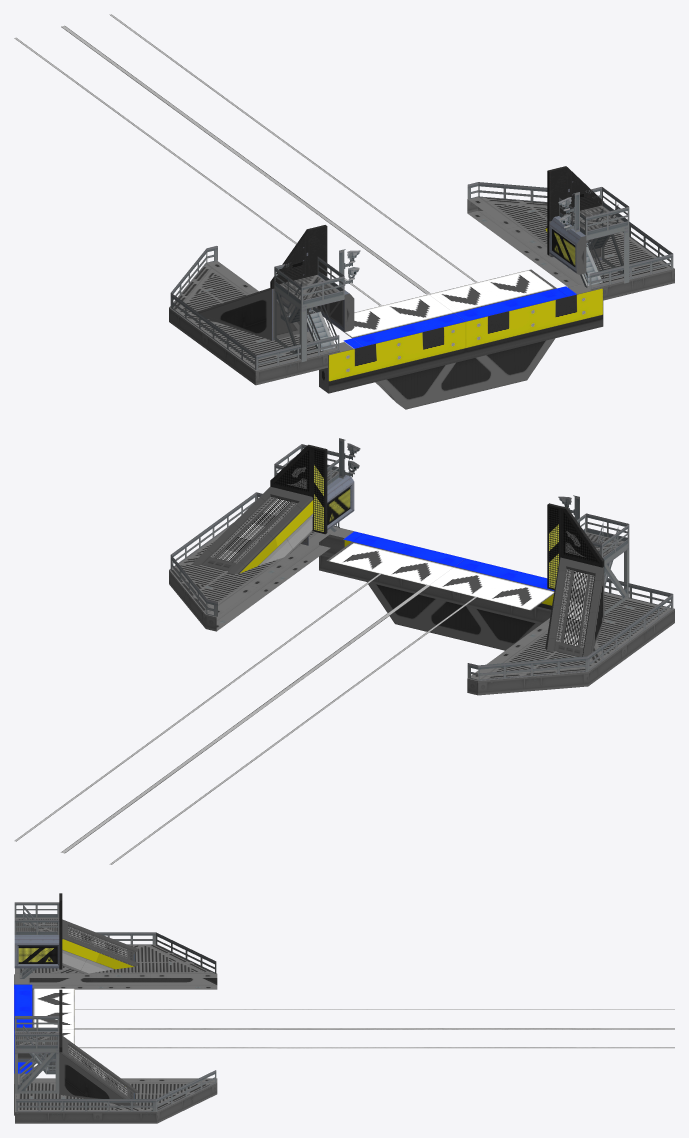
The model's file is jump_gate_area.fbx.
3 views of the same model, one above another, from view 1: azimuth 30°, elevation 25°; view 2: azimuth 150°, elevation 25°; view 3: azimuth 270°, elevation 25° (orthographic). The views are drawn at different scales.
Parts seen in each view (by area): view 1: Jump_gate, frontplate_jump, flt_lines_jump; view 2: Jump_gate, flt_lines_jump, frontplate_jump; view 3: Jump_gate, flt_lines_jump.
Boxes of the visible parts, x1,y1,x2,y2 form: Jump_gate: [169, 166, 674, 385]; frontplate_jump: [319, 284, 603, 409]; flt_lines_jump: [14, 14, 576, 348]; Jump_gate: [169, 438, 674, 695]; flt_lines_jump: [14, 531, 554, 864]; frontplate_jump: [319, 528, 553, 650]; Jump_gate: [14, 893, 217, 1123]; flt_lines_jump: [14, 984, 674, 1073].
Size of the model in its own units: 3844 by 1542 by 6400.
